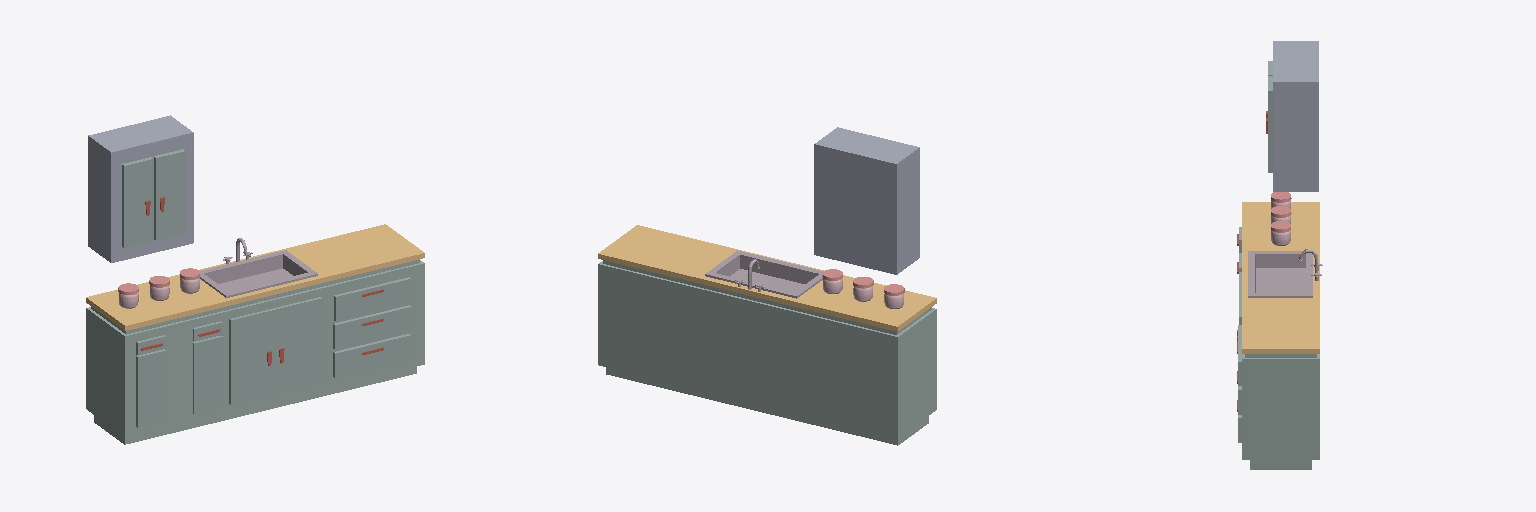
The picture shows the model from 3 angles: view 1: azimuth 30°, elevation 25°; view 2: azimuth 150°, elevation 25°; view 3: azimuth 270°, elevation 25°; orthographic projection.
Parts seen in each view (by area): view 1: LavamanosRocko:Mesh; view 2: LavamanosRocko:Mesh; view 3: LavamanosRocko:Mesh.
Part boxes in pixels (bbox=[...]): LavamanosRocko:Mesh: bbox=[86, 115, 424, 444]; LavamanosRocko:Mesh: bbox=[598, 127, 936, 445]; LavamanosRocko:Mesh: bbox=[1237, 41, 1322, 469].
Bounding box in the file's own units: 4.82 × 4.37 × 1.19.
1 materials, 1 textured.